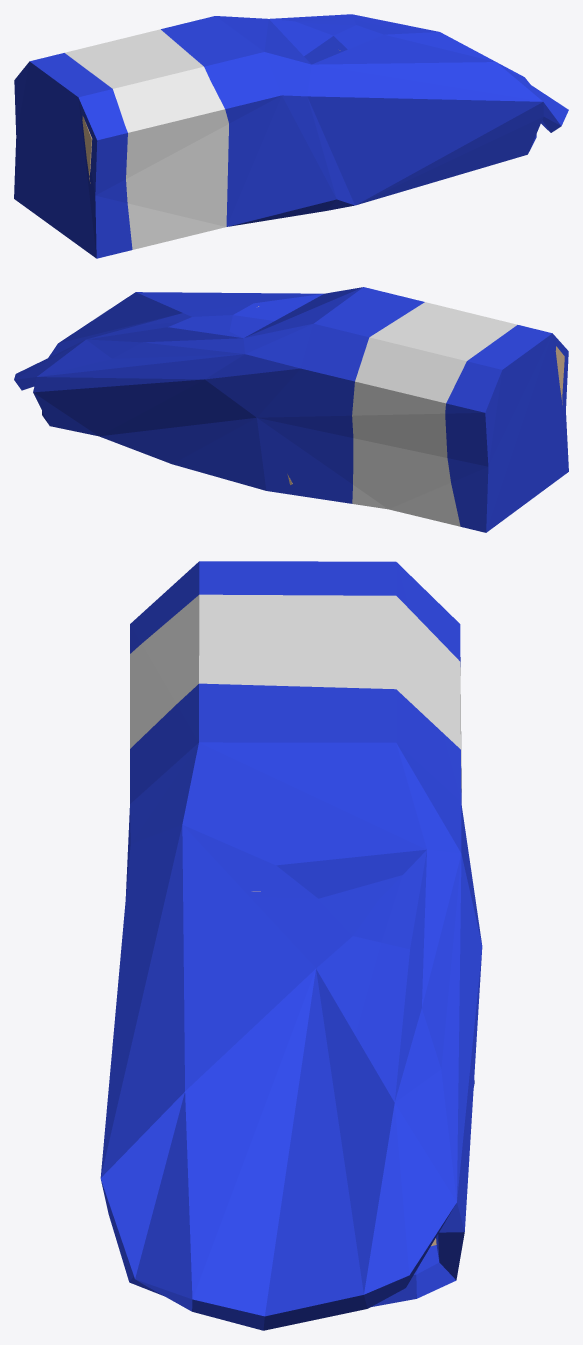
Rendered from BreadLoaf.fbx.
3 renders of one model, top to bottom at view 1: azimuth 30°, elevation 25°; view 2: azimuth 150°, elevation 25°; view 3: azimuth 270°, elevation 25°, orthographic. The views are drawn at different scales.
Parts seen in each view (by area): view 1: BreadLoaf; view 2: BreadLoaf; view 3: BreadLoaf.
Part boxes in pixels (x1,y1,x2,y2): BreadLoaf: [14, 14, 568, 258]; BreadLoaf: [14, 287, 568, 532]; BreadLoaf: [100, 561, 482, 1330].
Size of the model in its own units: 42.19 by 13.1 by 14.27.
